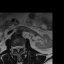CCS_normal: (17, 44, 19, 53)
LFS_normal: (21, 44, 23, 50)
LLS_normal: (19, 44, 21, 50)
RFS_normal: (12, 44, 15, 50)
RLS_normal: (15, 44, 17, 50)
